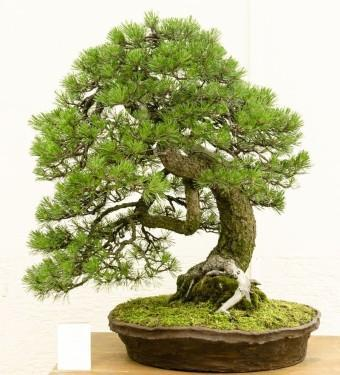tree: (20, 8, 307, 308)
